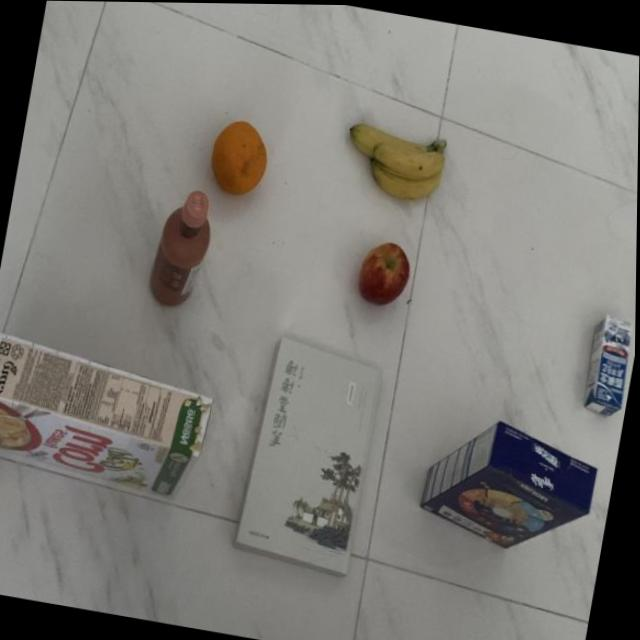Apple: (352, 234, 417, 312)
Banana: (329, 117, 451, 212)
Book: (228, 330, 389, 580)
Cerealbox: (0, 325, 222, 506), (413, 406, 607, 560)
Orange: (202, 114, 275, 203)
